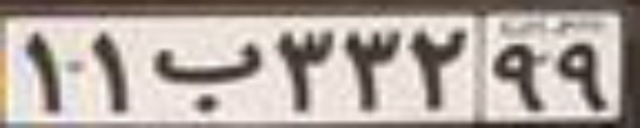1: (85, 31, 128, 114), (18, 31, 62, 112)
2: (409, 27, 468, 111)
3: (276, 28, 335, 112), (340, 29, 399, 111)
9: (490, 41, 544, 110), (558, 42, 609, 111)
be: (152, 42, 266, 112)
